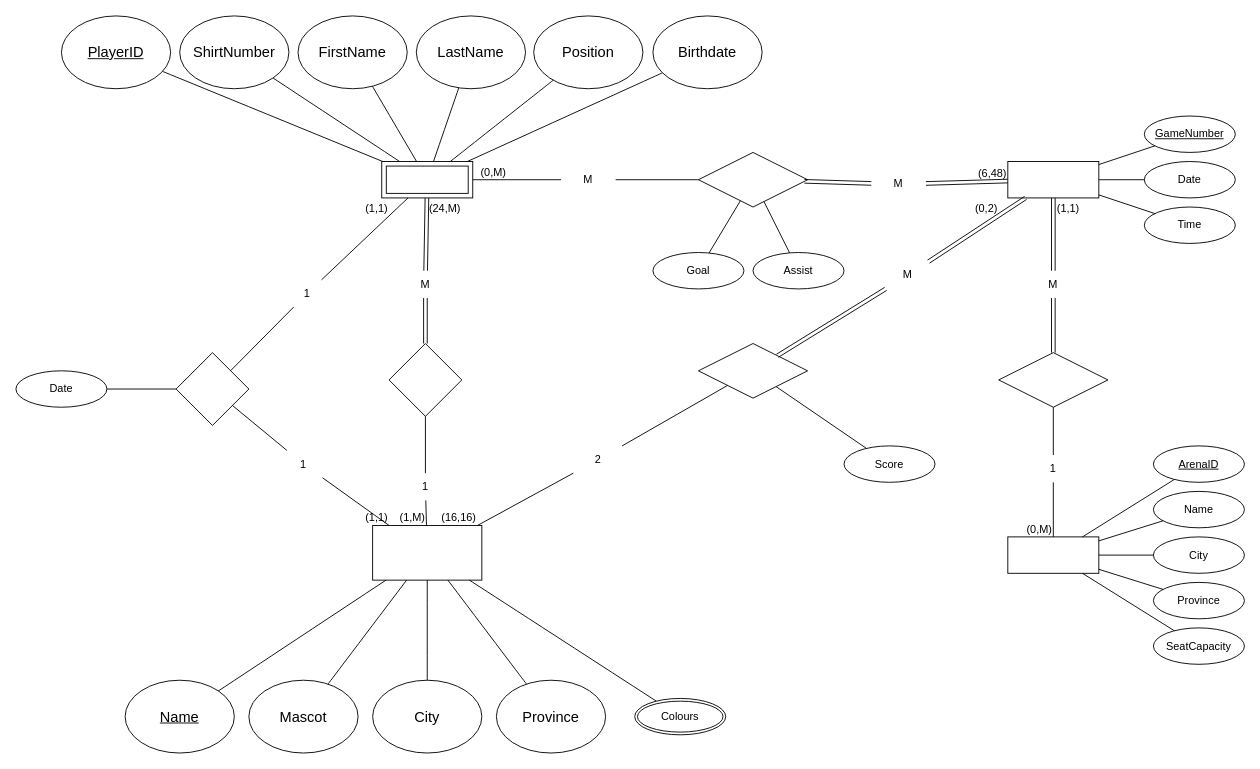
Image size: 1260x769. Some labels were removed from this diagram. Here are the shapes that lost their labels. From the top down, the centre of each, then its label:
(427,179): Player
(753,179): Participate in
(1053,179): Game
(212,388): Be captain of
(425,379): Plays For
(753,370): Plays
(1053,379): Played at
(427,552): Team
(1053,554): Arena
